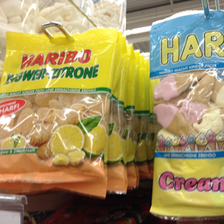candy: (1, 28, 124, 196), (151, 11, 224, 217)
